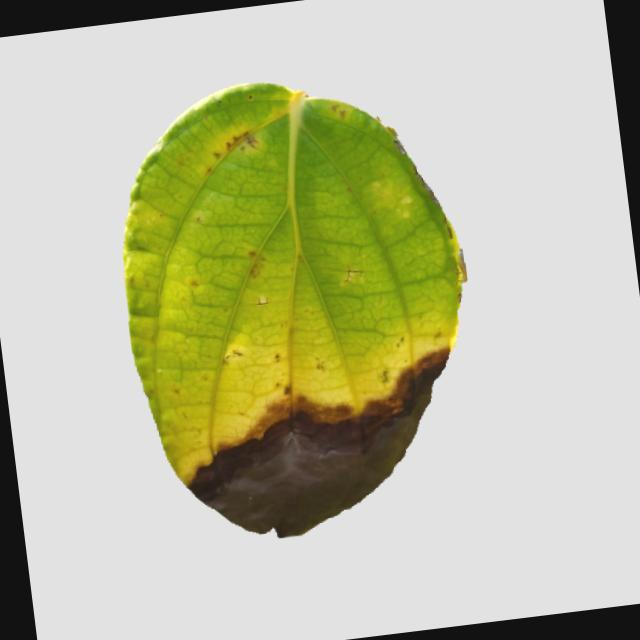leaf-blight: (94, 64, 503, 550)
